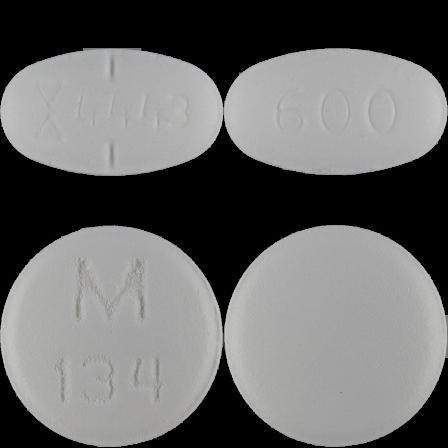42549-537: (0, 0, 224, 224)
